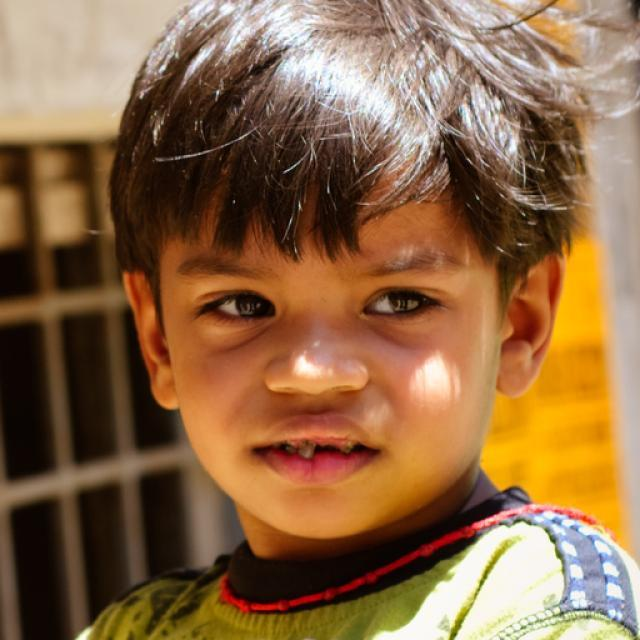disgust: (161, 158, 502, 536)
